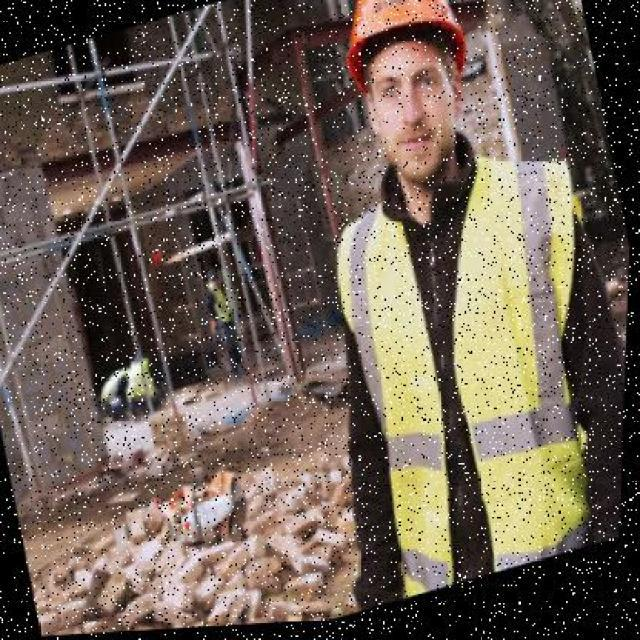helmet: (324, 0, 474, 92)
vest: (302, 122, 635, 583)
